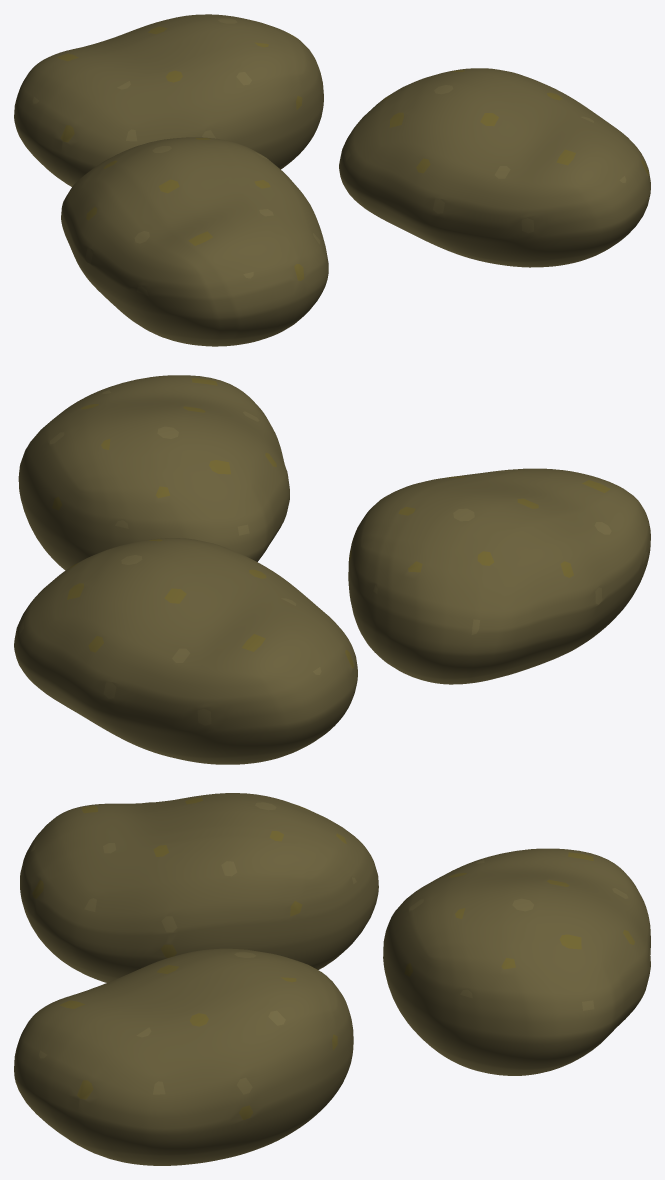
File: Potatoes.fbx
The picture shows the model from 3 angles, top to bottom: view 1: azimuth 30°, elevation 25°; view 2: azimuth 150°, elevation 25°; view 3: azimuth 270°, elevation 25°; orthographic projection. The views are drawn at different scales.
Visible parts, largest first — view 1: pCube4; view 2: pCube4; view 3: pCube4.
Part boxes in pixels (x1=…): pCube4: x1=14, y1=14, x2=650, y2=346; pCube4: x1=14, y1=375, x2=650, y2=764; pCube4: x1=14, y1=793, x2=650, y2=1165.
Bounding box in the file's own units: 47.25 × 13.33 × 44.73.
